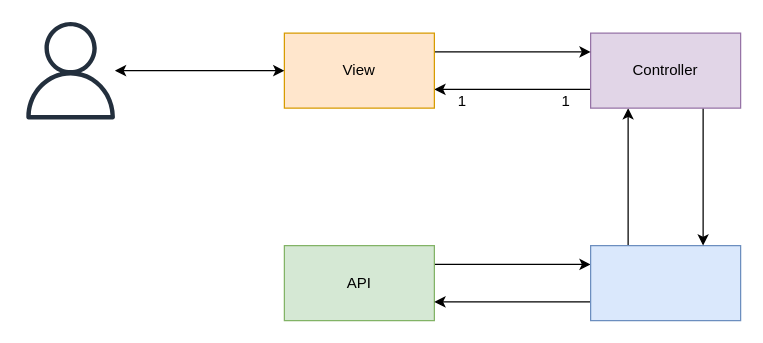
The diagram is 763 pixels wide and 343 high, and some of its shapes have lost their labels. Each missing label, with the centre of its shape:
"Model" belongs at (665,282).
"User" belongs at (70,70).
